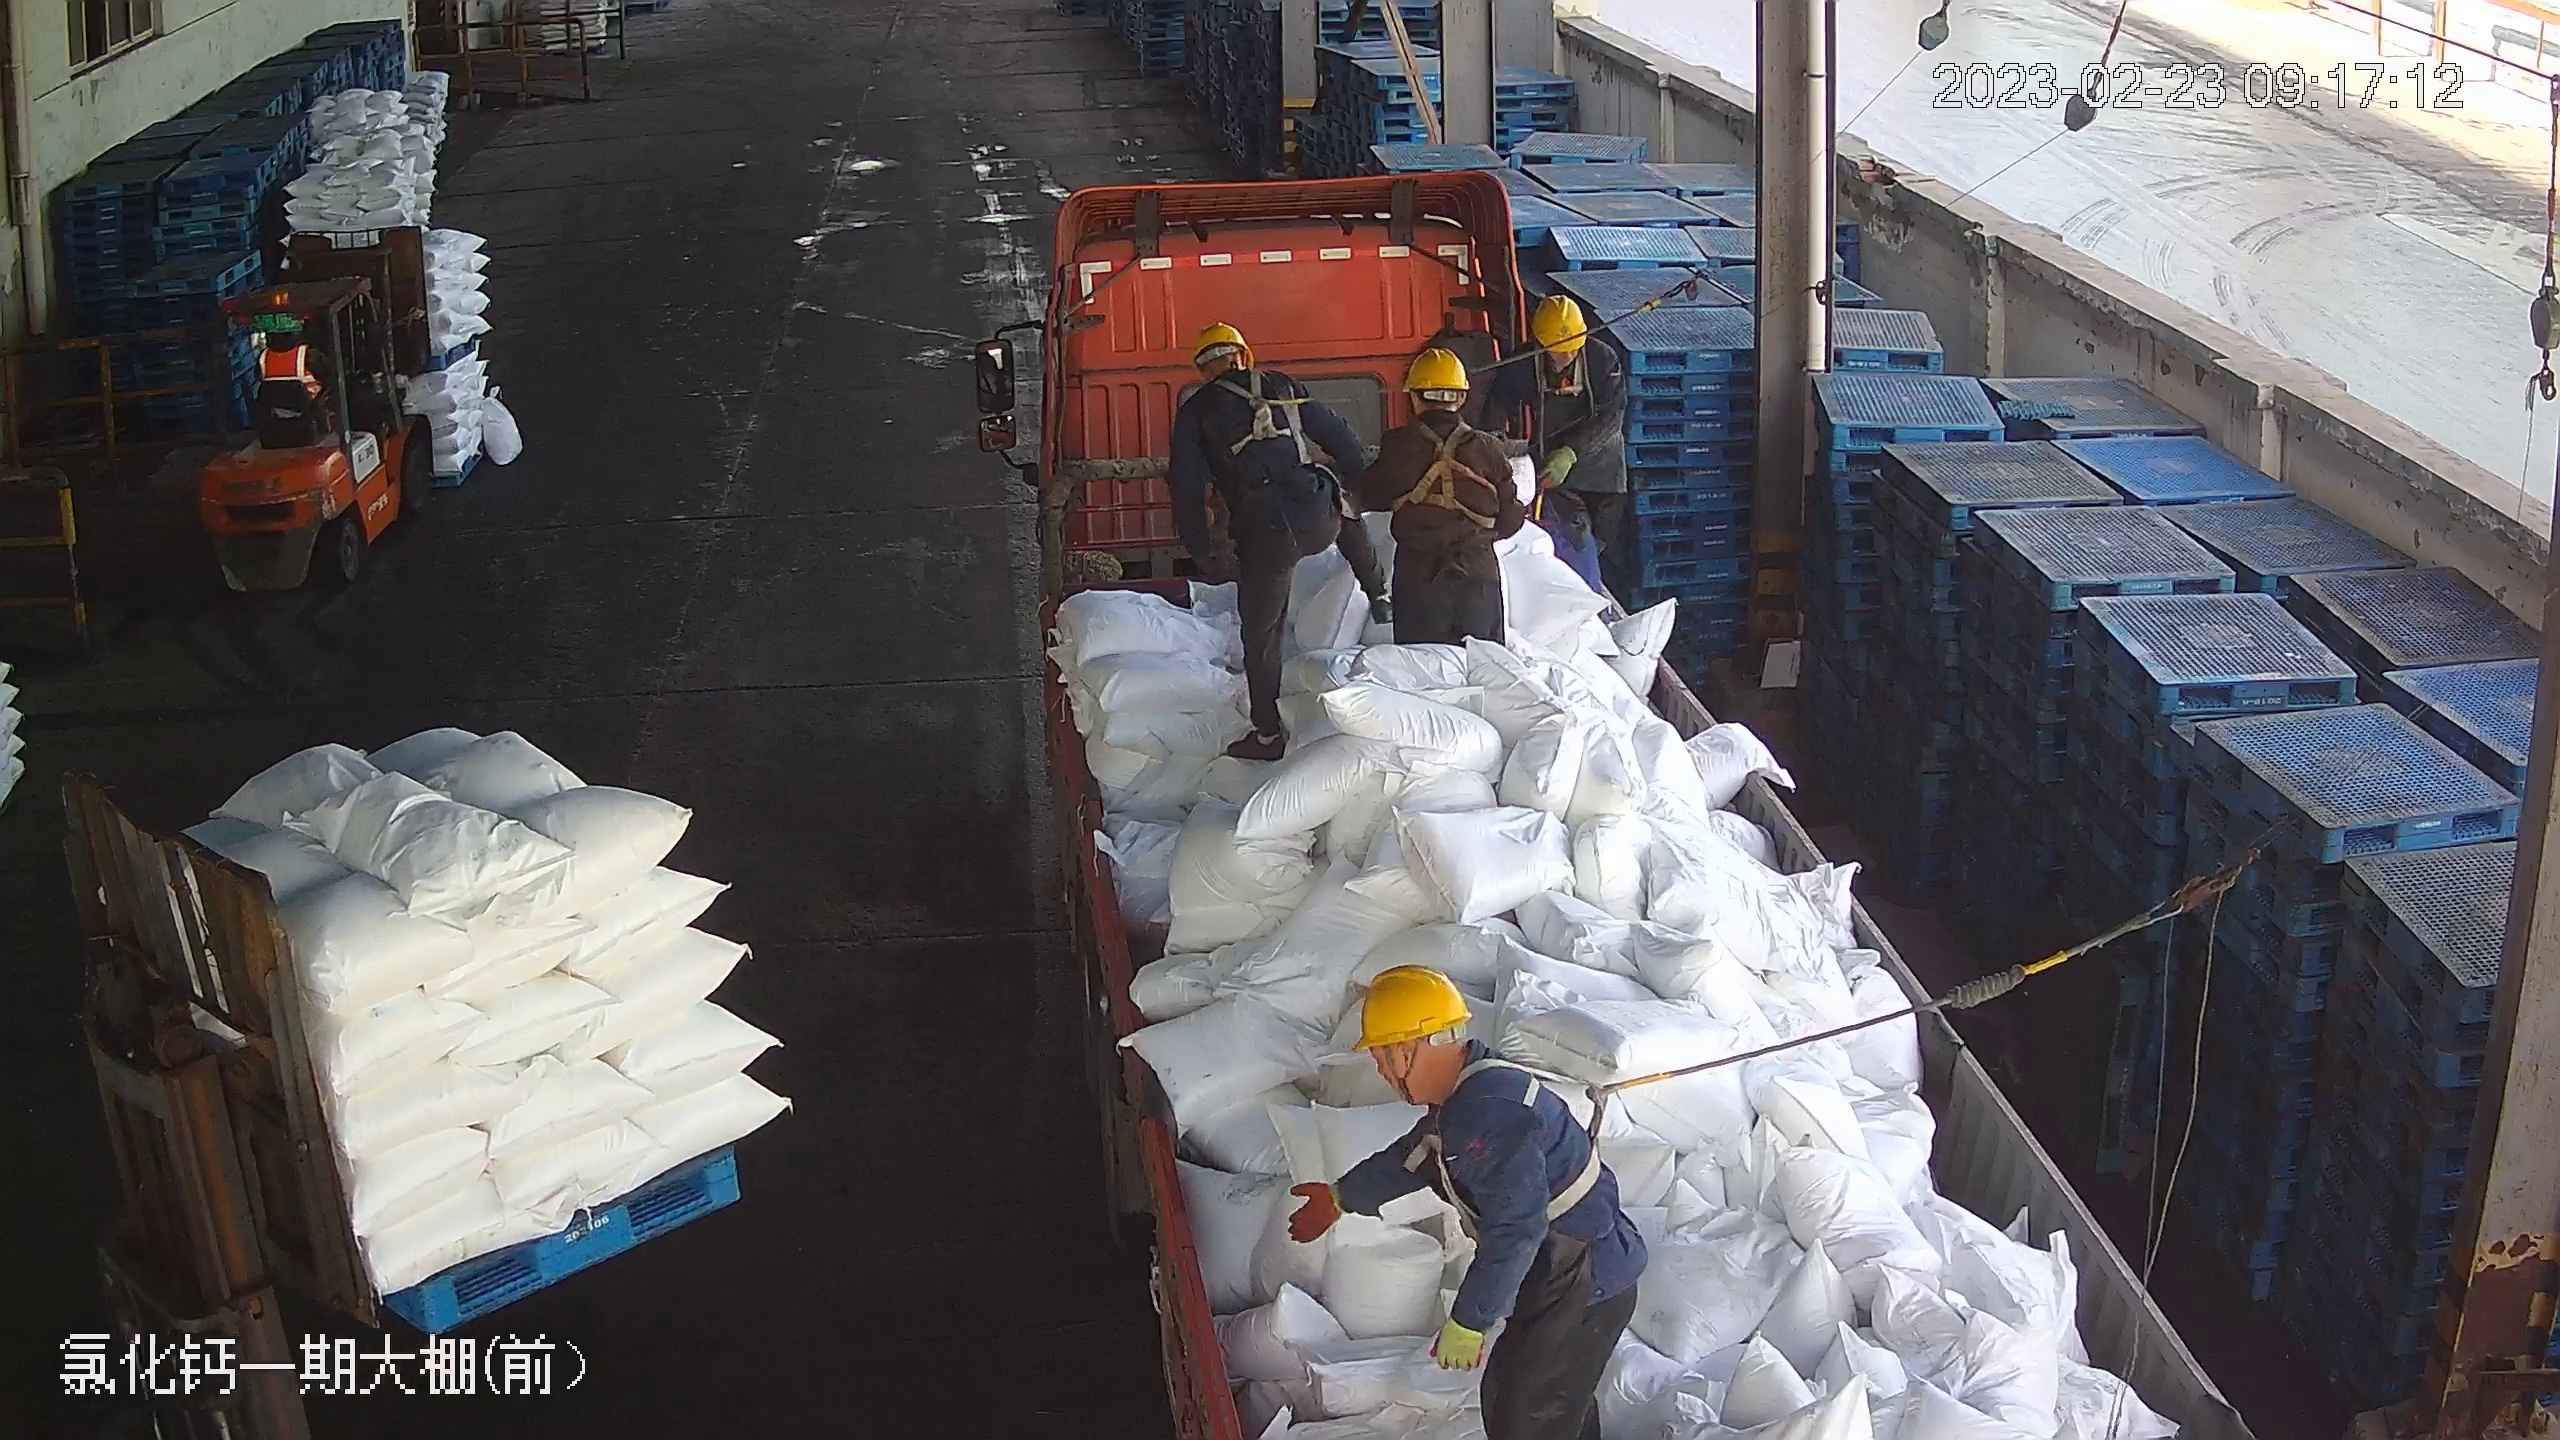belt: (1460, 1061, 1674, 1224), (1400, 419, 1494, 518), (1218, 373, 1316, 465), (1531, 342, 1596, 401)
head: (1344, 963, 1558, 1187), (1176, 318, 1318, 442), (1380, 347, 1503, 479), (1507, 295, 1620, 401)
helmet: (1348, 962, 1475, 1047), (1400, 343, 1471, 393), (1528, 293, 1590, 351), (1187, 318, 1250, 366)
people: (1285, 962, 1647, 1438), (1174, 316, 1392, 763), (1368, 352, 1526, 660), (1500, 292, 1643, 618)
truck: (974, 160, 2263, 1439)
